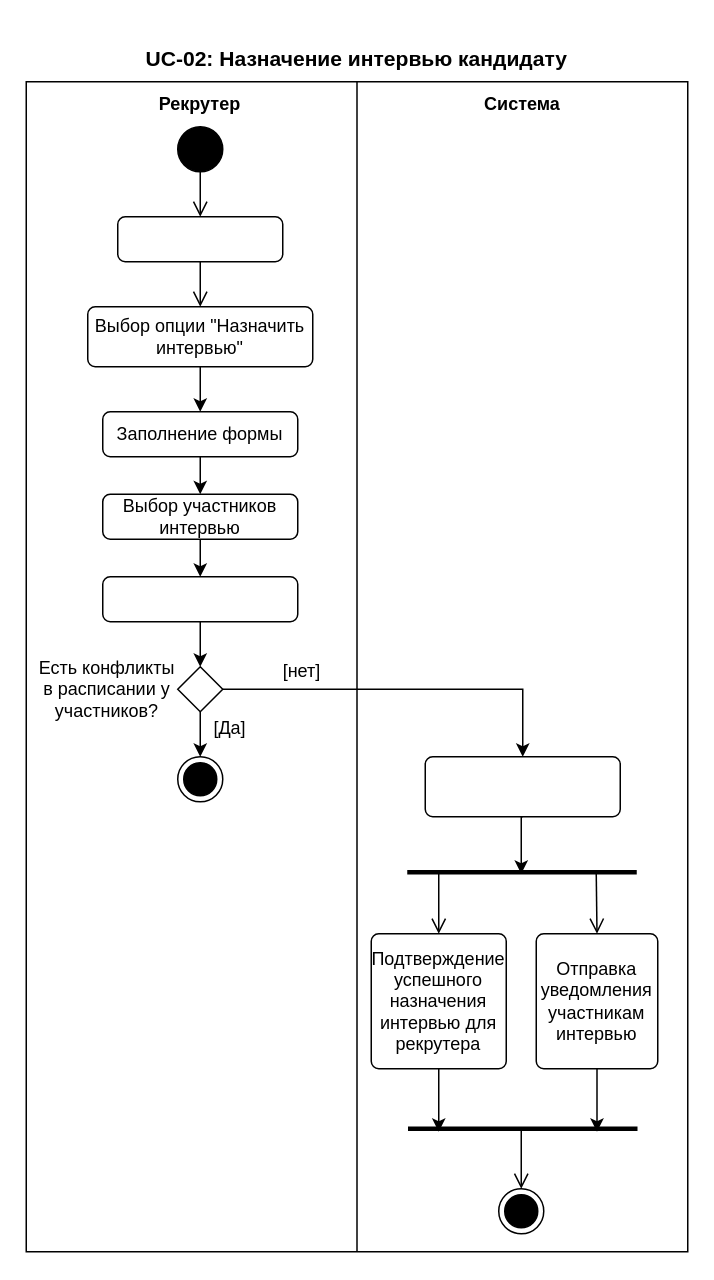
The diagram is 714 pixels wide and 1280 high, and some of its shapes have lost their labels. Here are the shapes that lost their labels. From the top down, the box of each, then its label:
(116, 215, 283, 262): Войти в систему
(101, 575, 298, 622): Назначение интервью
(424, 755, 620, 817): Сохранение заявки и генерация ID
